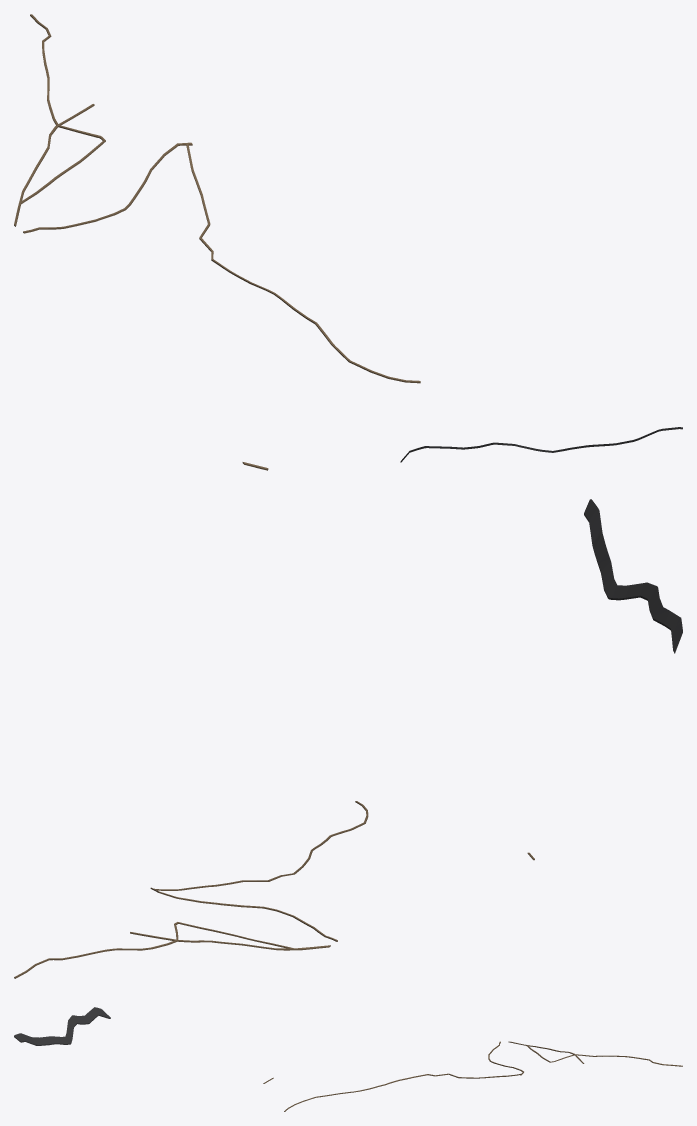
The model's file is 15-27373-14879.542dfd67.glb.
3 views of the same model, one above another, from view 1: azimuth 30°, elevation 25°; view 2: azimuth 150°, elevation 25°; view 3: azimuth 270°, elevation 25° (orthographic). The views are drawn at different scales.
Size of the model in its own units: 116 by 104 by 688.
